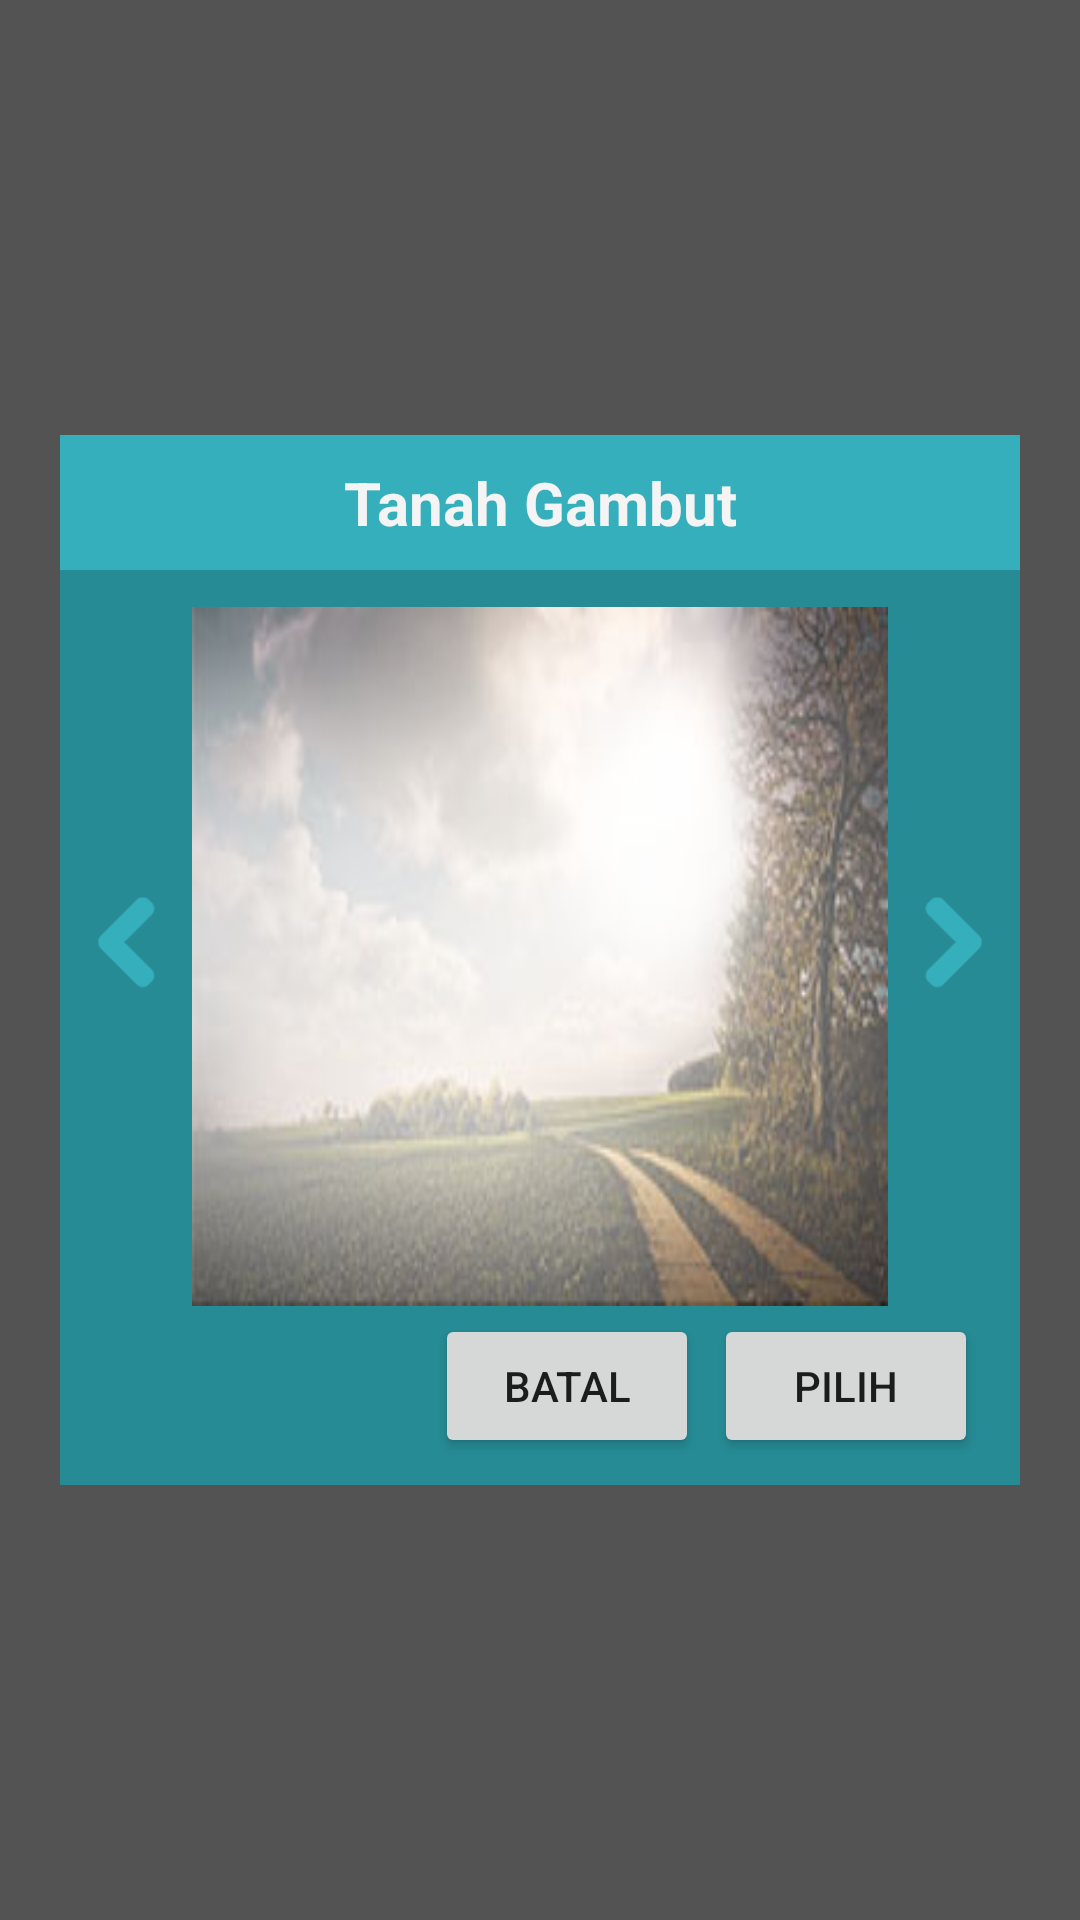

Locate icon controls on the screen. Image size 1080*1920, boxes as [x1=x1, y1=y1, x2=x2, y2=y2].
left arrow: [x1=99, y1=898, x2=154, y2=987]
right arrow: [x1=926, y1=898, x2=981, y2=987]
